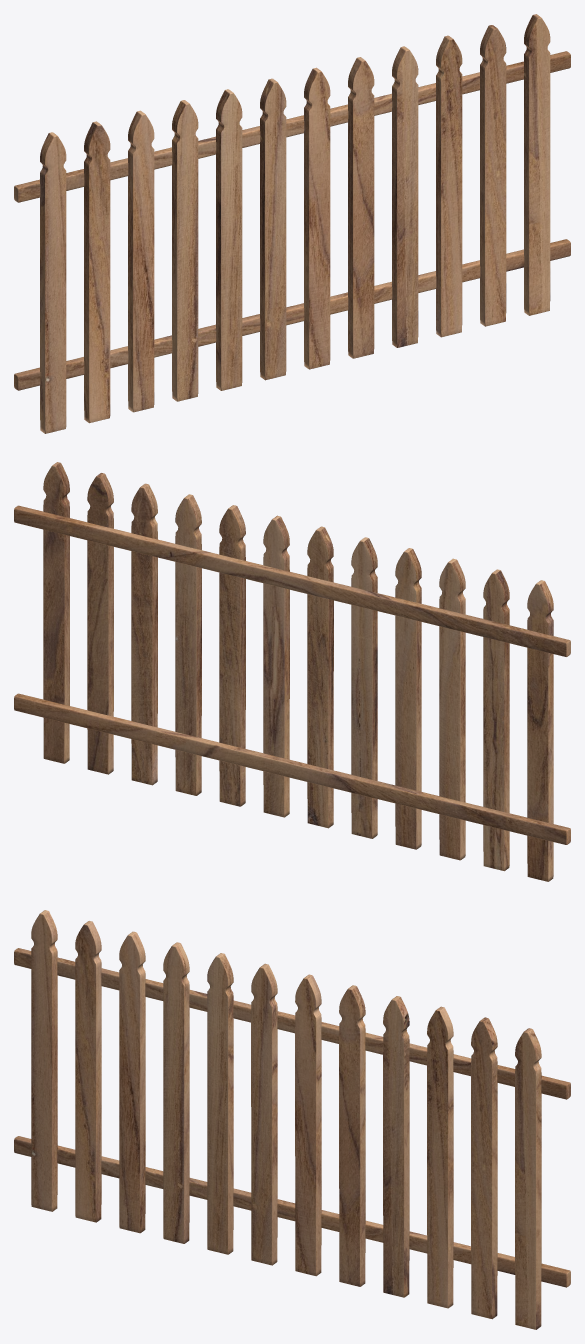
The model's file is yard.glb.
3 renders of one model, top to bottom at view 1: azimuth 30°, elevation 25°; view 2: azimuth 150°, elevation 25°; view 3: azimuth 330°, elevation 25°, orthographic.
Parts seen in each view (by area): view 1: g.011, g.010, g.004, g.007, g.008, g.009, g.003, g.005, g.006, g, g.002, g.001 (+2 smaller); view 2: g.012, g.013, g.001, g, g.005, g.003, g.004, g.011, g.007, g.008, g.009, g.002 (+2 smaller); view 3: g.001, g.005, g.009, g.002, g.011, g.004, g.006, g.008, g, g.007, g.010, g.003 (+2 smaller).
Part boxes in pixels (x1,y1,x2,y2): g.011: (40,132,66,433); g.010: (84,121,110,423); g.004: (348,57,374,358); g.007: (216,89,242,390); g.008: (172,100,198,401); g.009: (128,110,154,412); g.003: (392,46,418,347); g.005: (304,67,330,369); g.006: (260,78,286,380); g: (524,14,550,315); g.002: (436,35,462,337); g.001: (480,25,506,326); g.012: (14,693,570,844); g.013: (14,505,570,656); g.001: (87,473,113,774); g: (43,462,69,763); g.005: (263,515,289,817); g.003: (175,494,201,795); g.004: (219,505,245,806); g.011: (527,580,553,881); g.007: (351,537,377,838); g.008: (395,548,421,849); g.009: (439,558,465,860); g.002: (131,483,157,785); g.001: (471,1017,497,1319); g.005: (295,974,321,1276); g.009: (119,931,145,1233); g.002: (427,1006,453,1308); g.011: (31,910,57,1211); g.004: (339,985,365,1286); g.006: (251,963,277,1265); g.008: (163,942,189,1243); g: (515,1028,541,1329); g.007: (207,953,233,1254); g.010: (75,921,101,1222); g.003: (383,996,409,1297).
Bounding box in the file's own units: 2 × 1.02 × 0.0583.
1 material, 1 textured.
